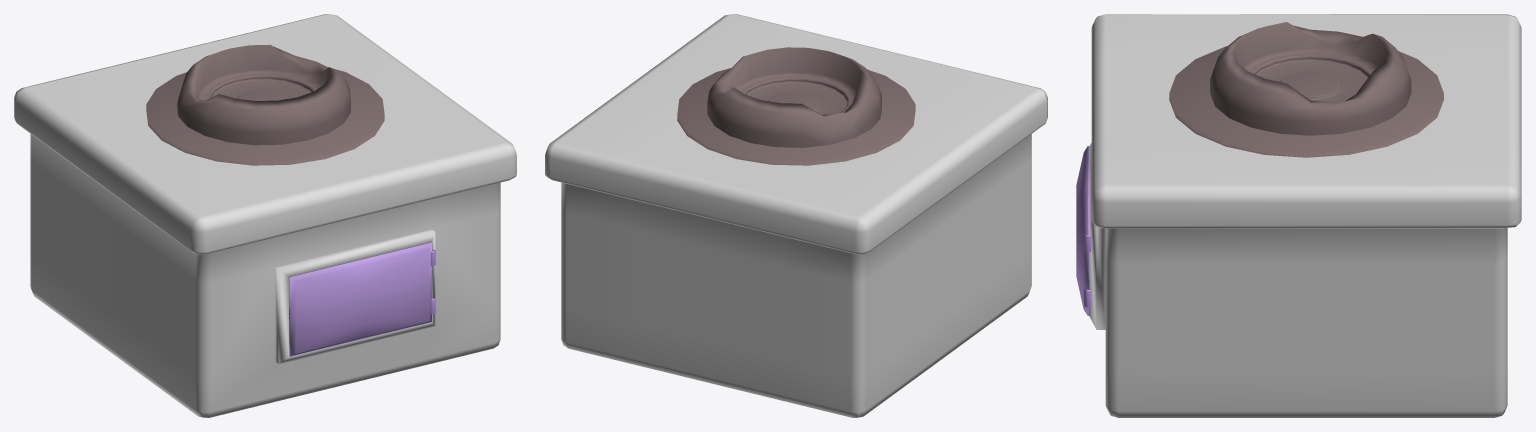
The model's file is japaneseStove.fbx.
3 renders of one model, left to right at view 1: azimuth 30°, elevation 25°; view 2: azimuth 150°, elevation 25°; view 3: azimuth 270°, elevation 25°, orthographic. The views are drawn at different scales.
Parts seen in each view (by area): view 1: stoveBase, stove, stovecover; view 2: stoveBase, stove; view 3: stoveBase, stove, stovecover.
Boxes of the visible parts, bbox=[...] form: stoveBase: bbox=[14, 14, 516, 417]; stove: bbox=[146, 44, 384, 165]; stovecover: bbox=[289, 242, 435, 356]; stoveBase: bbox=[545, 14, 1047, 417]; stove: bbox=[677, 47, 915, 165]; stoveBase: bbox=[1089, 14, 1521, 417]; stove: bbox=[1169, 22, 1443, 157]; stovecover: bbox=[1076, 146, 1091, 315].
Bounding box in the file's own units: 159 × 116 × 164.
